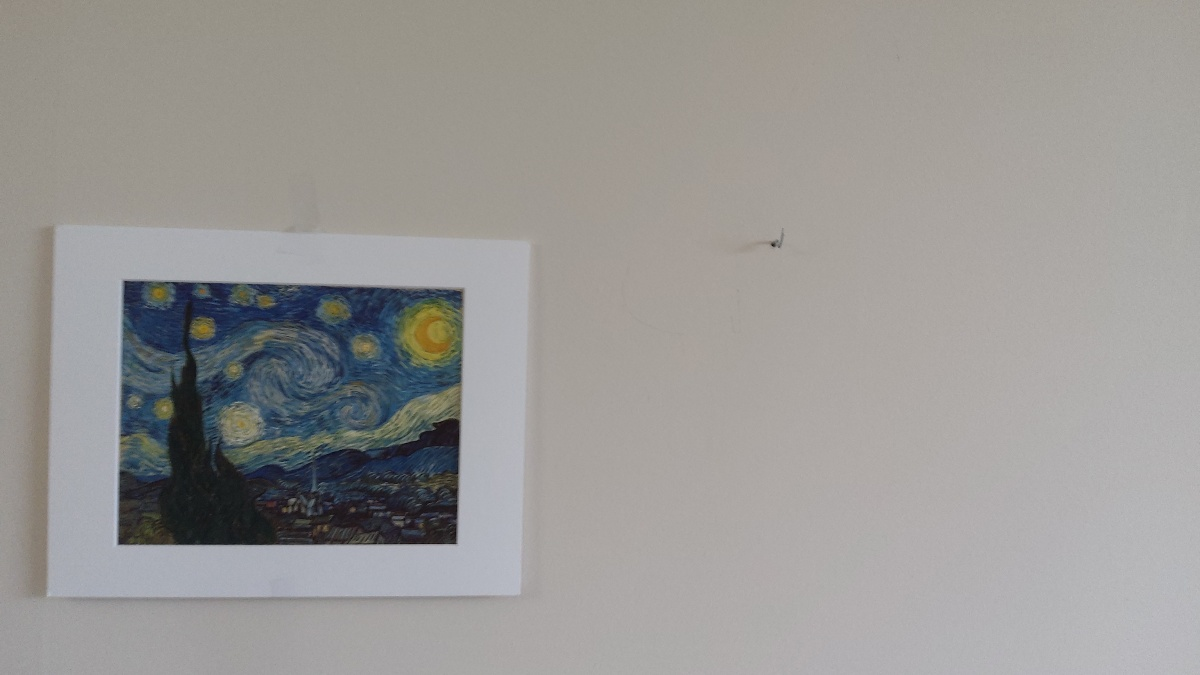painting: (112, 270, 467, 553)
